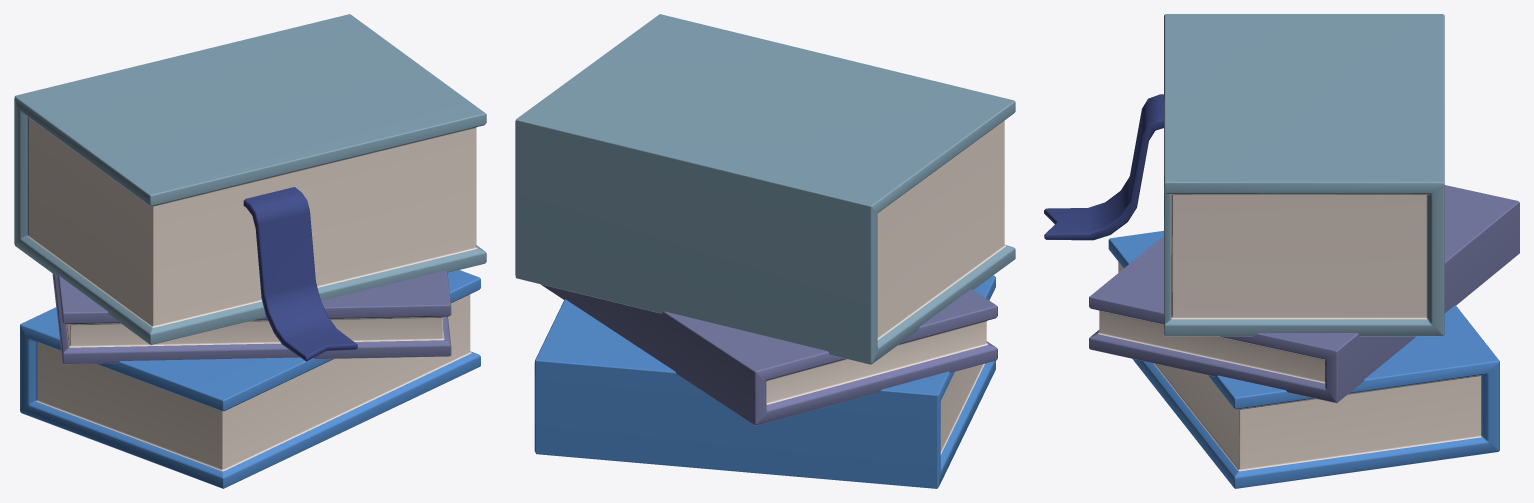
The model's file is Books_21.glb.
3 renders of one model, left to right at view 1: azimuth 30°, elevation 25°; view 2: azimuth 150°, elevation 25°; view 3: azimuth 270°, elevation 25°, orthographic. The views are drawn at different scales.
Visible parts, largest first — view 1: Books_21; view 2: Books_21; view 3: Books_21.
Part boxes in pixels (<box>): Books_21: <box>14,14,486,488</box>; Books_21: <box>515,14,1015,488</box>; Books_21: <box>1044,14,1519,488</box>.
Bounding box in the file's own units: 0.373 × 0.2503 × 0.3681.
1 material, 1 textured.
